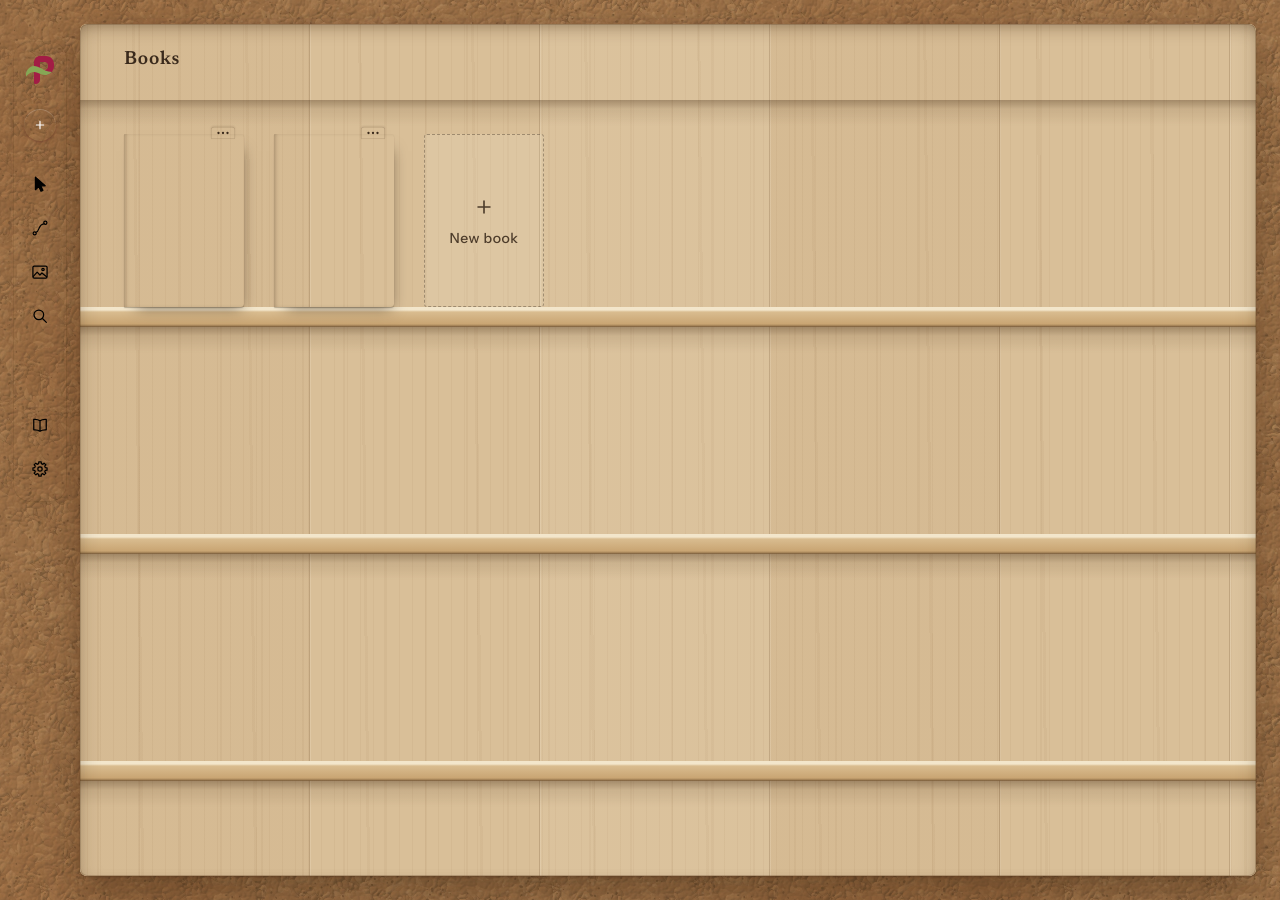
the shelf › delete asks with the title, deletes, and undo brings the book back with all its blocks
The width and height of the screenshot is (1280, 900).
Later steps or results of the test are not shown.
Click the button named "Options for Field notes".
click(222, 117)  # box x1=200 y1=95 x2=244 y2=139
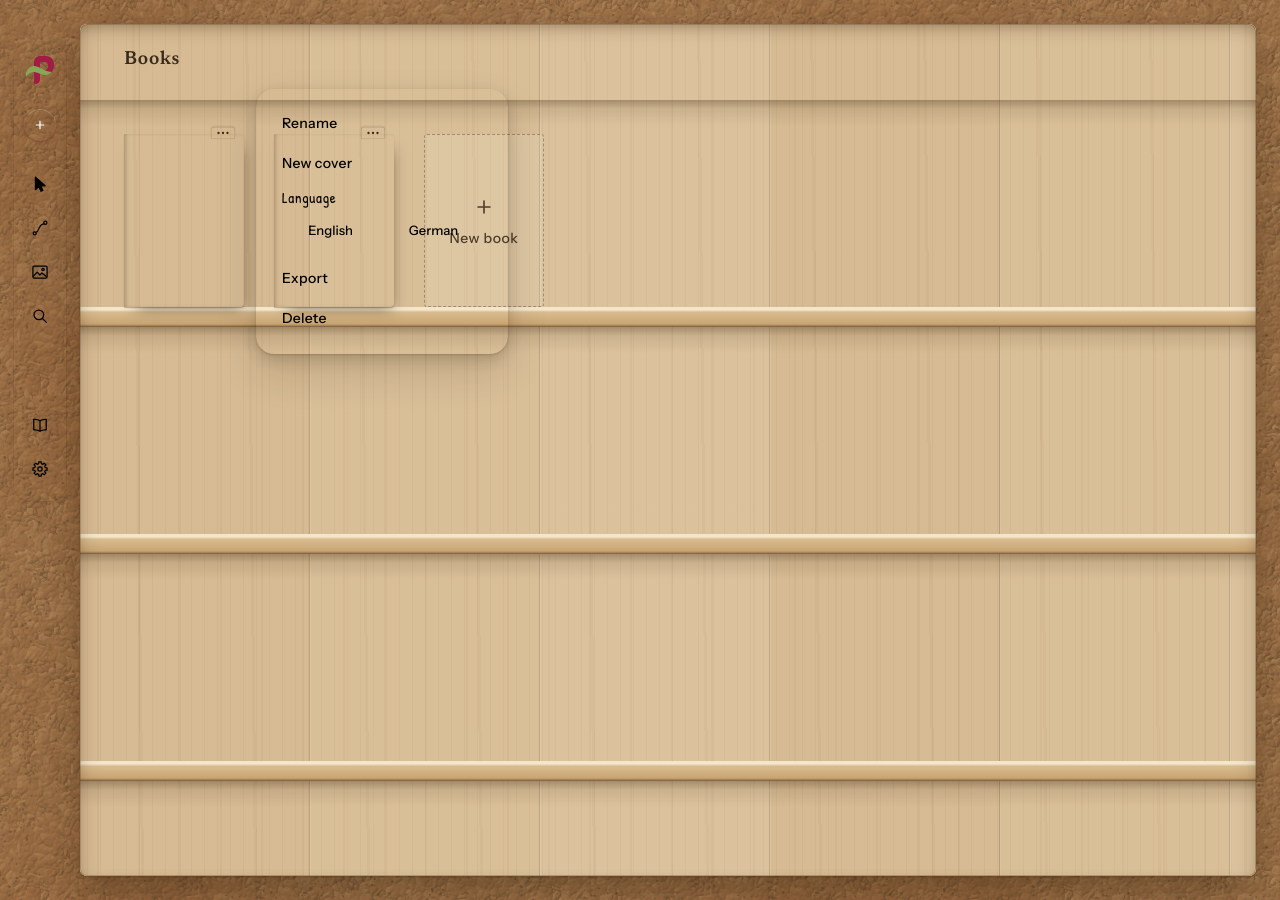
Expected: the buttons read "Rename", "New cover", "Export", "Delete", in this order
Expected: the radio button labelled "English" is checked, x1=282 y1=212 x2=379 y2=248
Click the button "Delete".
click(382, 318)  # box x1=272 y1=298 x2=492 y2=338
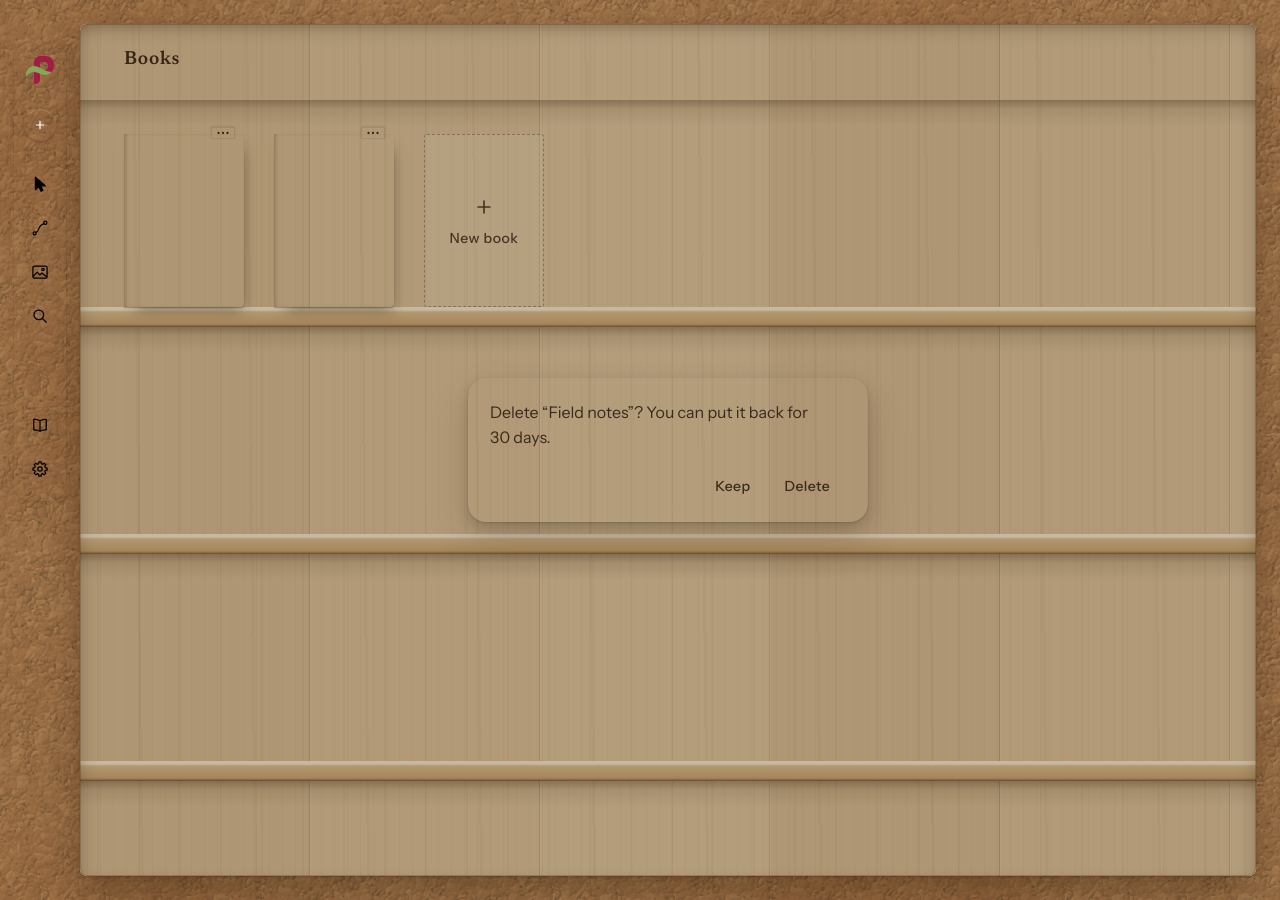
Expected: the dialog shows "Delete “Field notes”? You can put it back for 30 days.", x1=468 y1=378 x2=868 y2=522
Click the button "Keep".
click(733, 486)  # box x1=705 y1=464 x2=760 y2=508
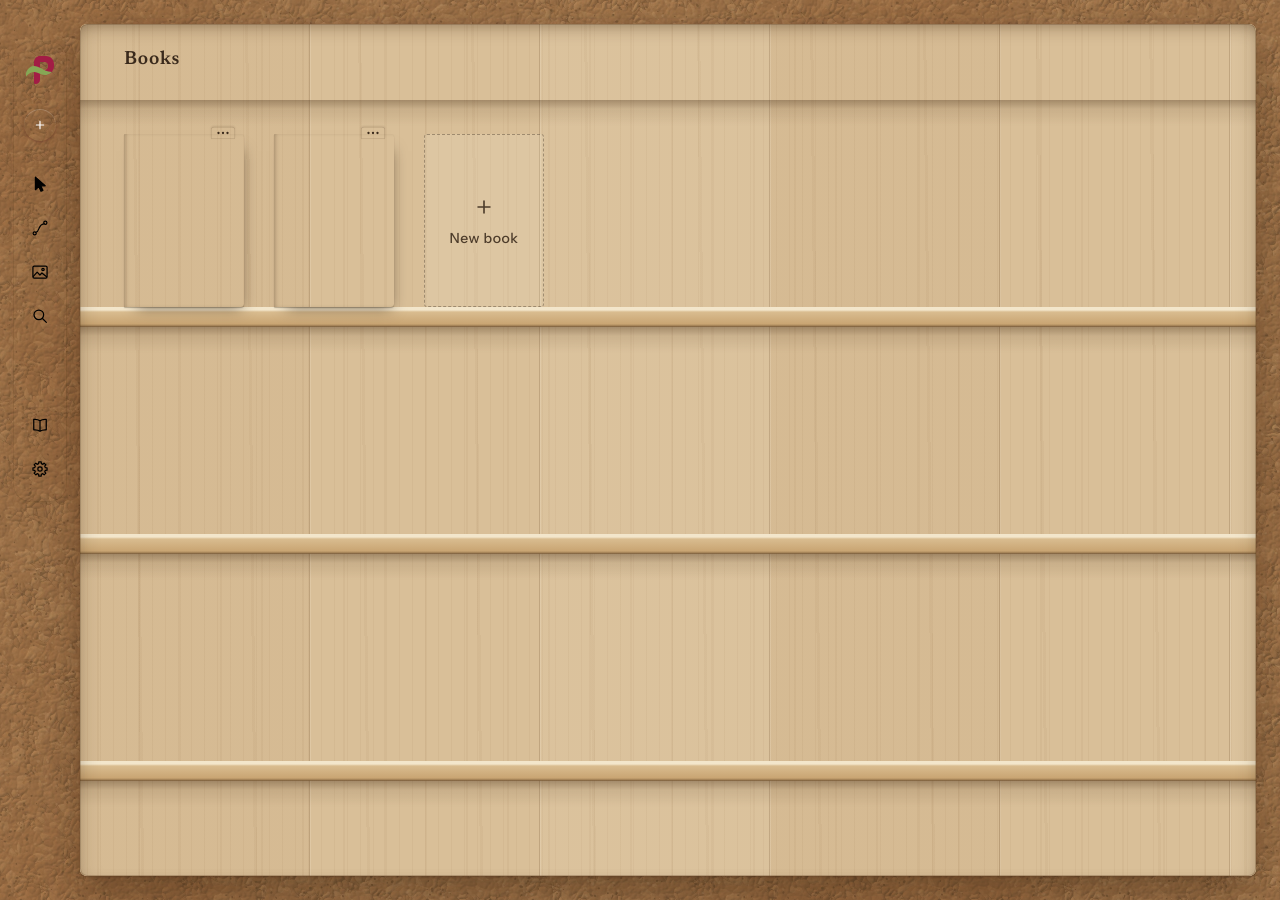
Click the button named "Options for Field notes".
click(222, 117)  # box x1=200 y1=95 x2=244 y2=139
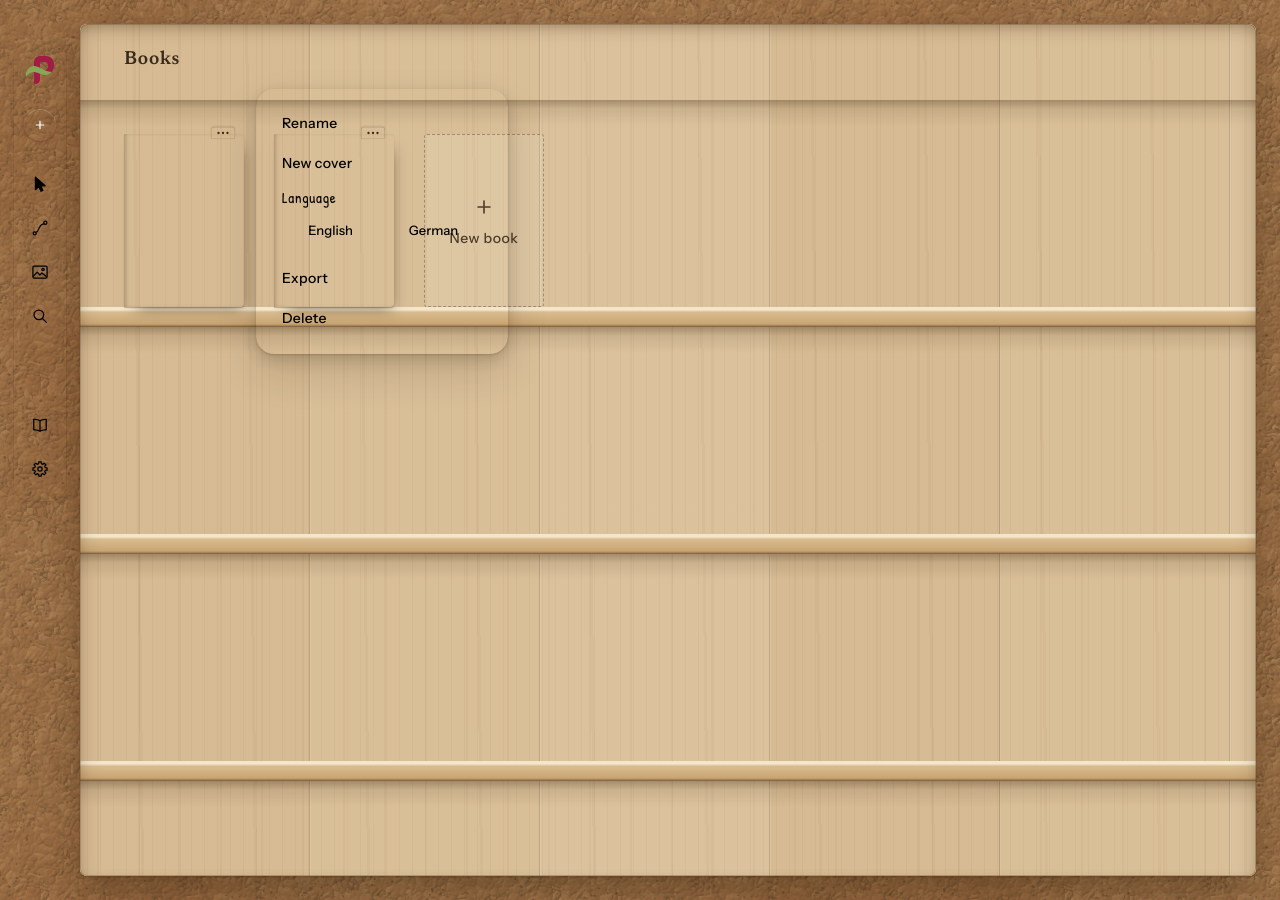
Expected: the buttons read "Rename", "New cover", "Export", "Delete", in this order, x1=272 y1=103 x2=492 y2=143; x1=272 y1=143 x2=492 y2=183; x1=272 y1=258 x2=492 y2=298; x1=272 y1=298 x2=492 y2=338
Expected: the radio button labelled "English" is checked, x1=282 y1=212 x2=379 y2=248
